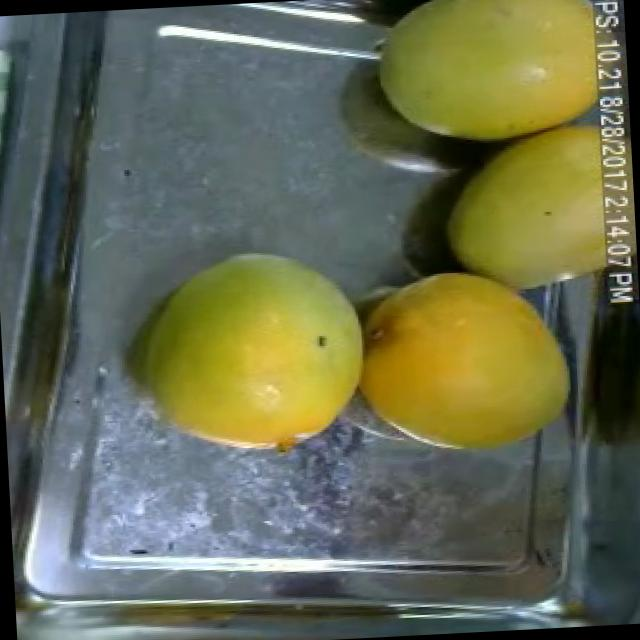fruit: (102, 223, 390, 475), (339, 247, 580, 470), (350, 0, 607, 178), (423, 95, 608, 316)
